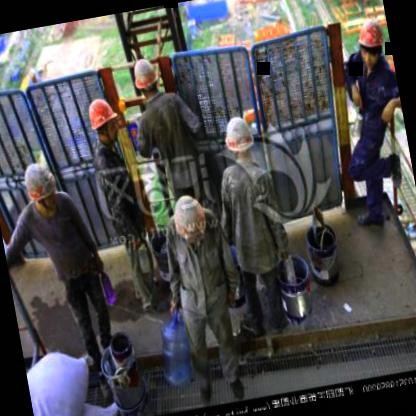helmet: (168, 190, 210, 244), (22, 158, 62, 214), (85, 92, 123, 146), (354, 16, 390, 69), (222, 114, 256, 160), (129, 56, 162, 102)
